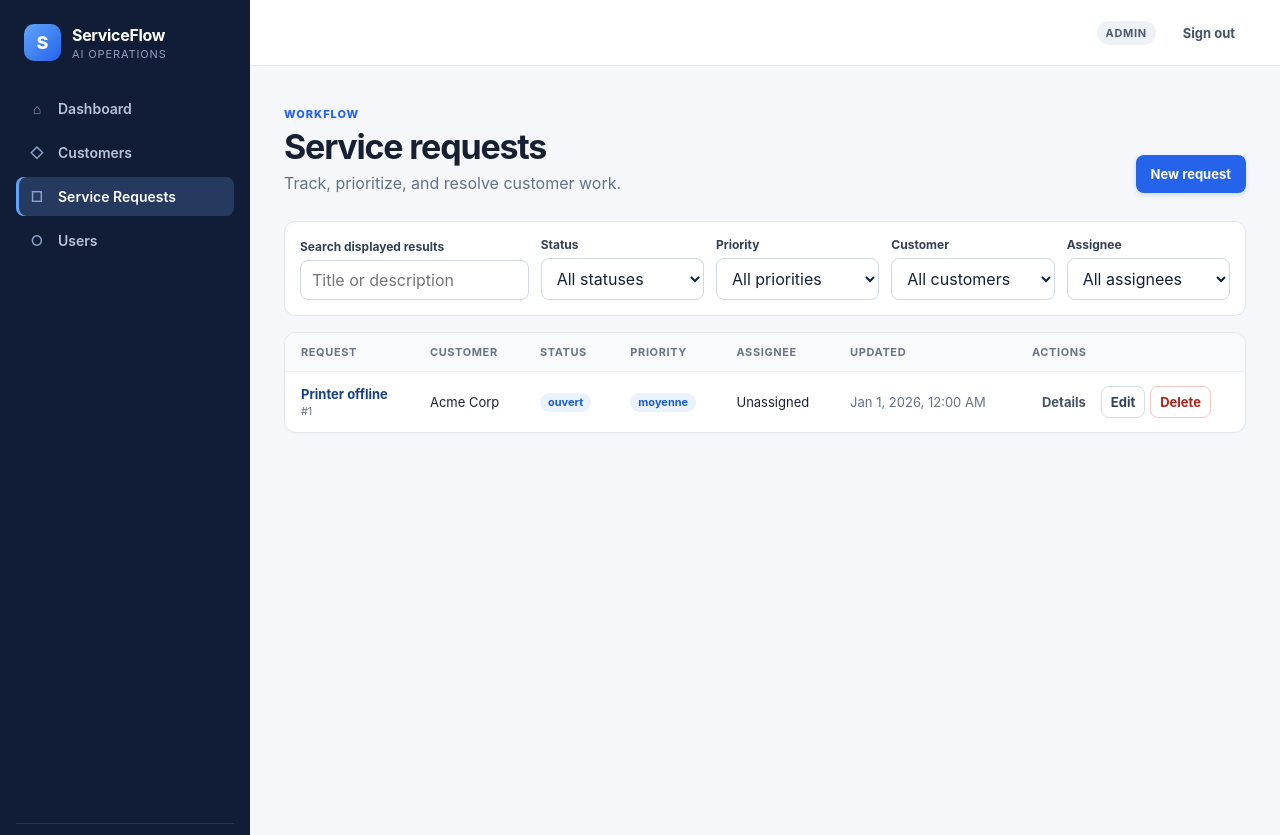
Test: AI suggestion actions › preserves priority after update failure and allows retry
Click the button "Printer offline".
click(344, 394)  # box [301,386,388,402]
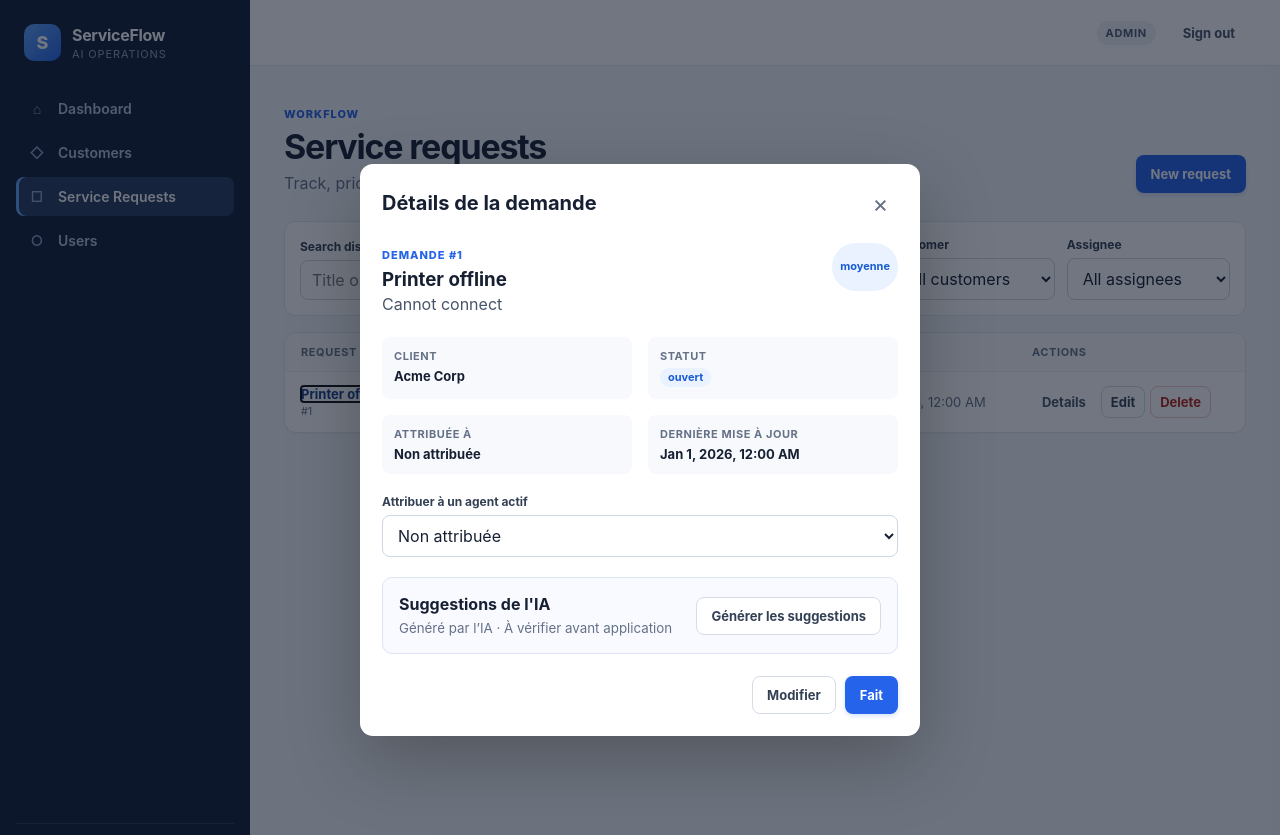
Click the button "Générer les suggestions".
click(789, 616)  # box [696,597,881,635]
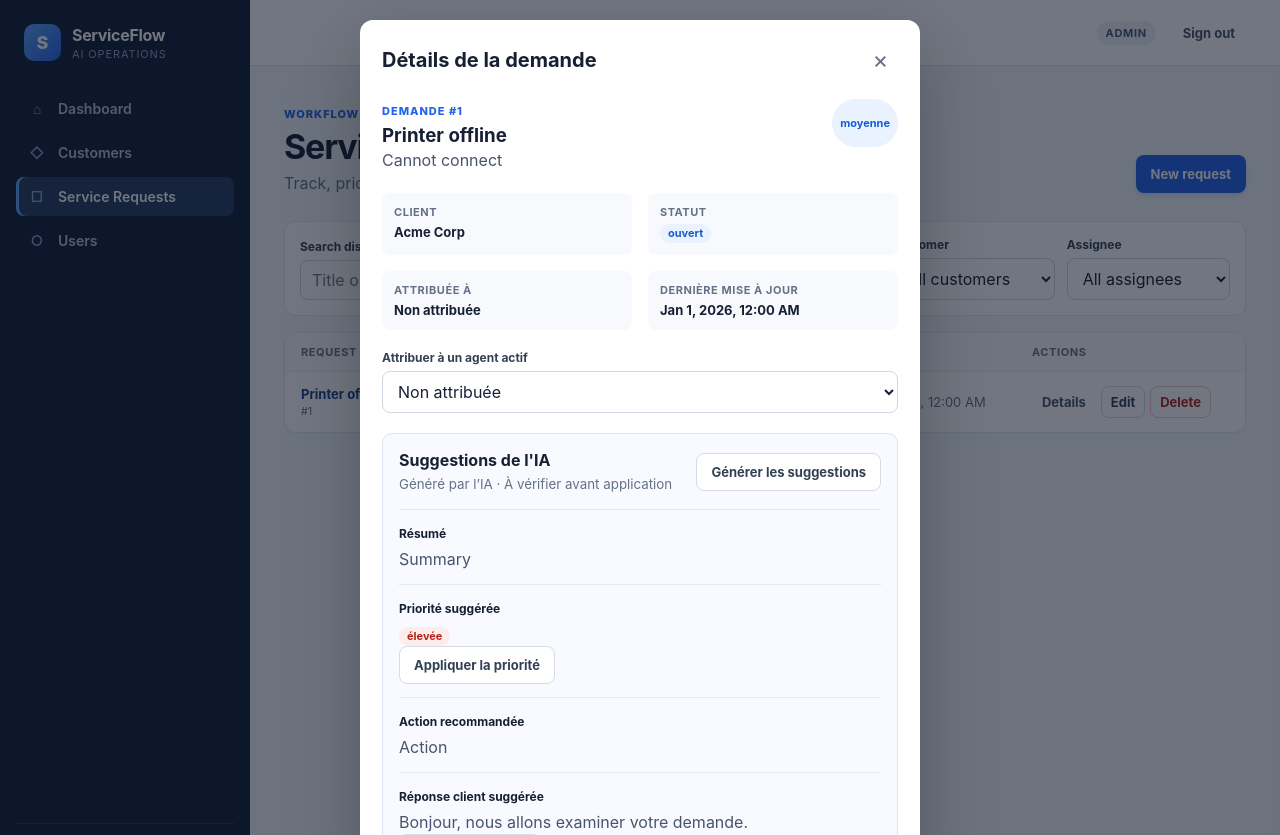
Expected: the text "Bonjour, nous allons examiner votre demande." is shown, [399,812,748,832]
Click the button "Appliquer la priorité".
click(477, 665)  # box [399,646,555,684]
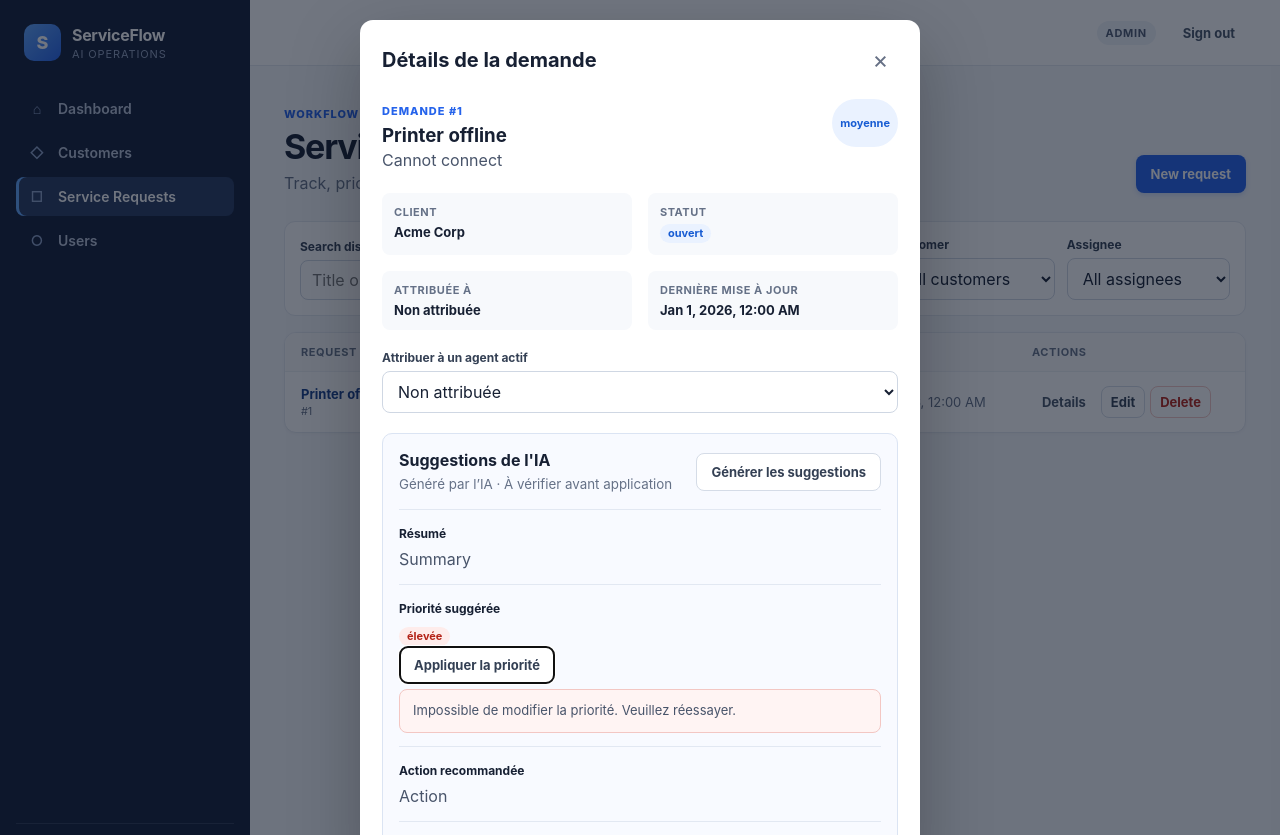
Expected: the text "moyenne" is shown, [832,99,898,147]
Expected: the message shows "Impossible de modifier la priorité", [413,702,736,718]
Click the button "Appliquer la priorité".
click(477, 665)  # box [399,646,555,684]
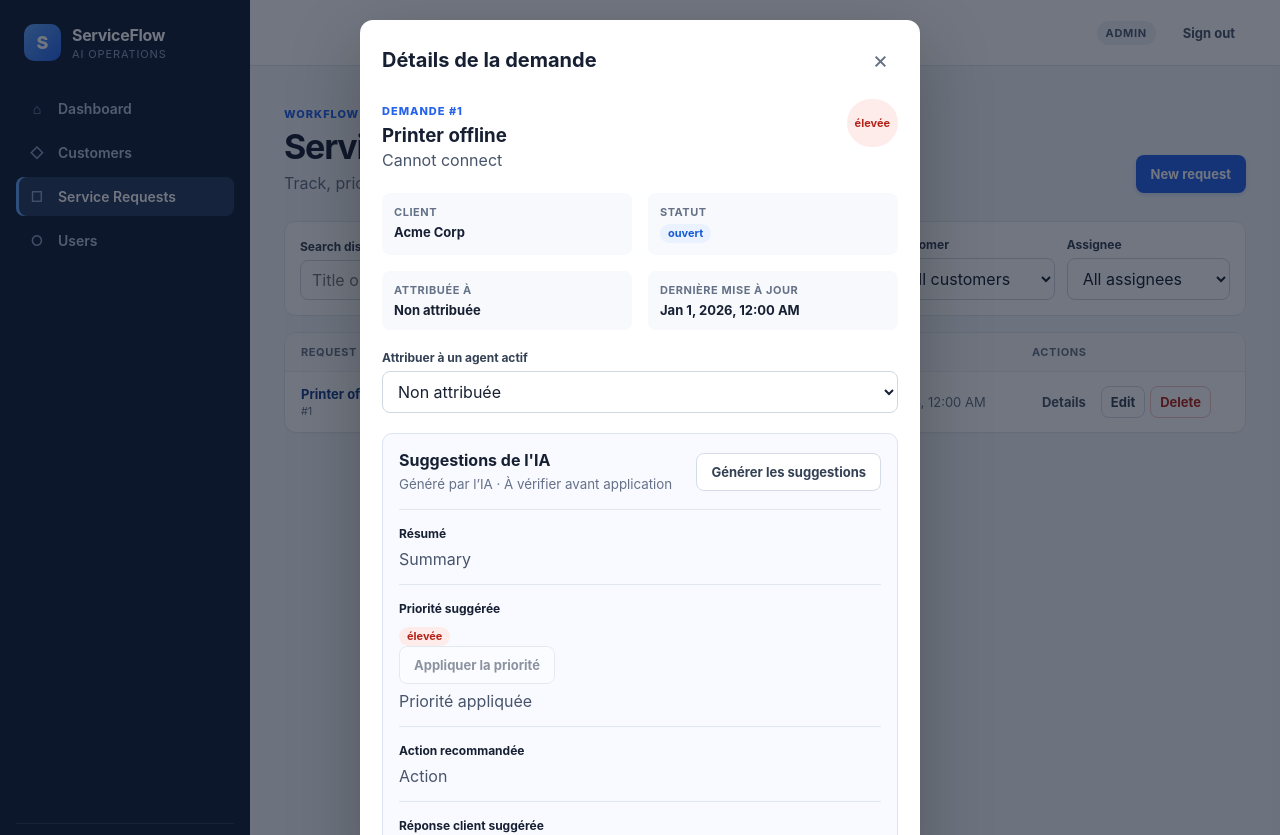
Expected: the text "Priorité appliquée" is shown, [399,691,532,711]
